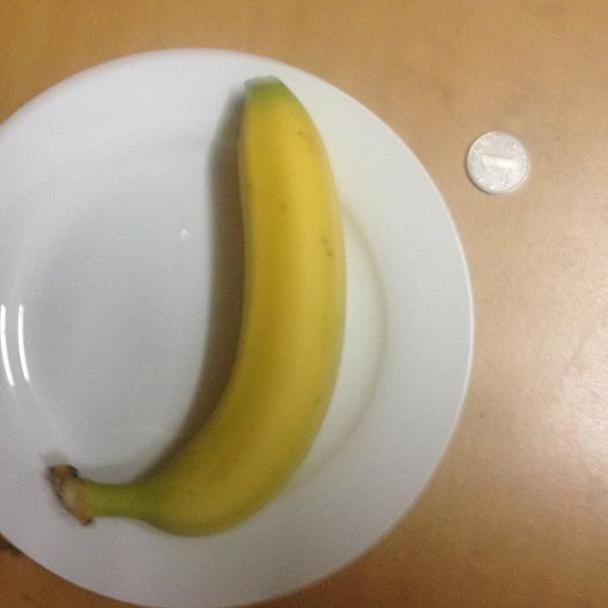banana: (109, 75, 365, 541)
